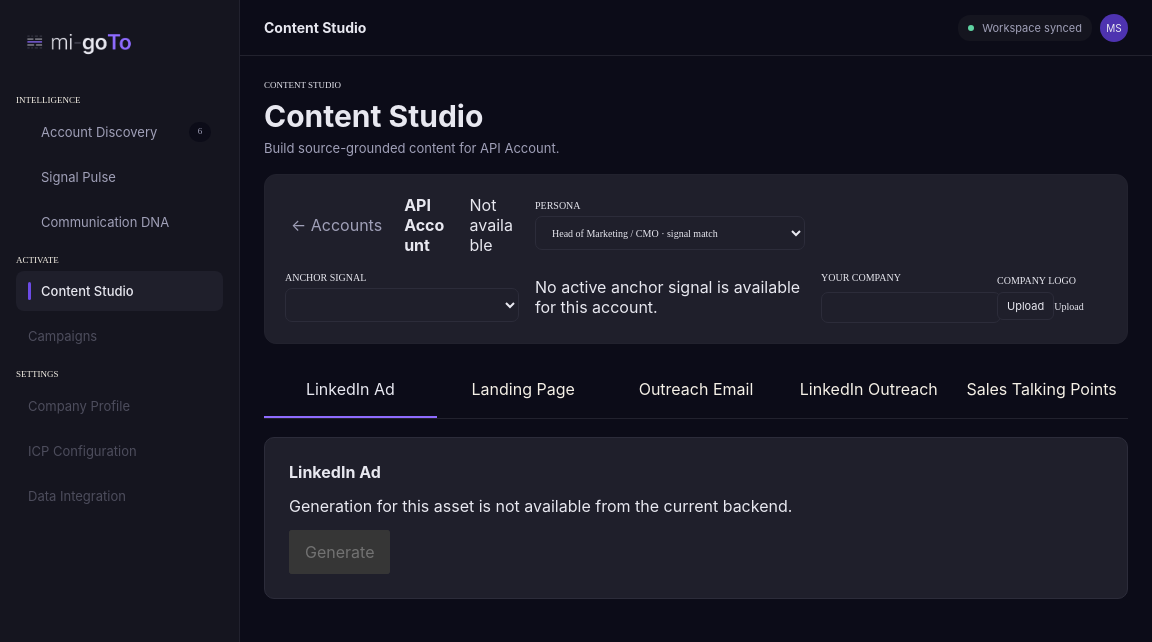
Scenario: Phase 6D API-mode UI regressions › keeps API Content Studio account context neutral when no active signal exists
The image size is (1152, 642).
Click the button "Outreach Email" at (696, 390), box [610, 362, 782, 418]
(page scrolled)
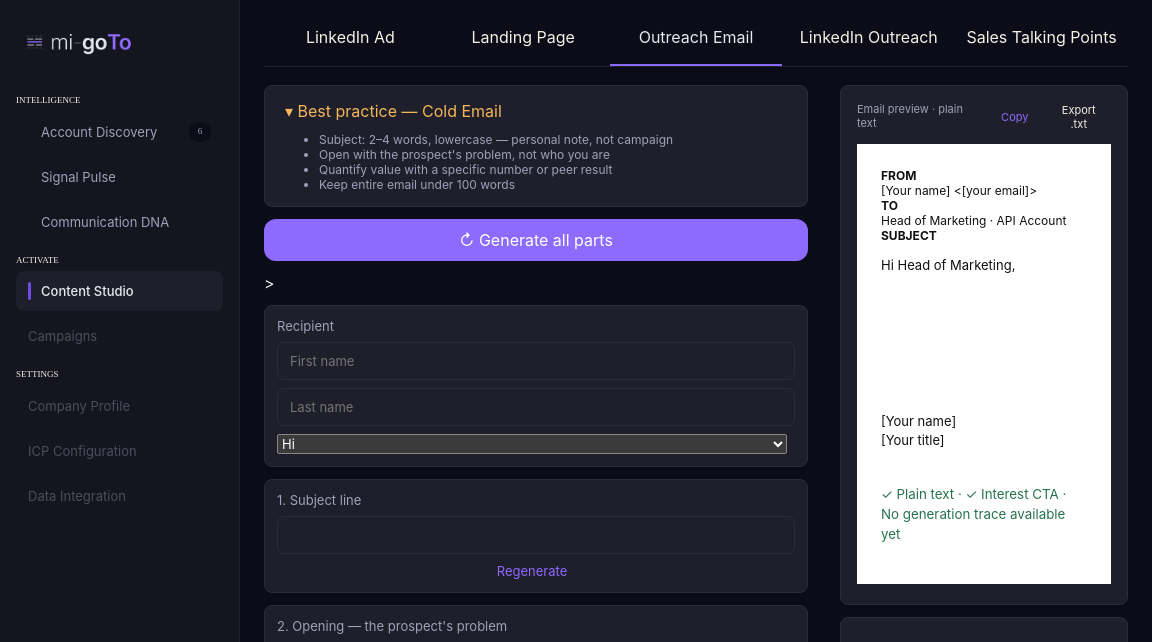
Expected: the field named "First name" is shown, [277, 342, 795, 380]
